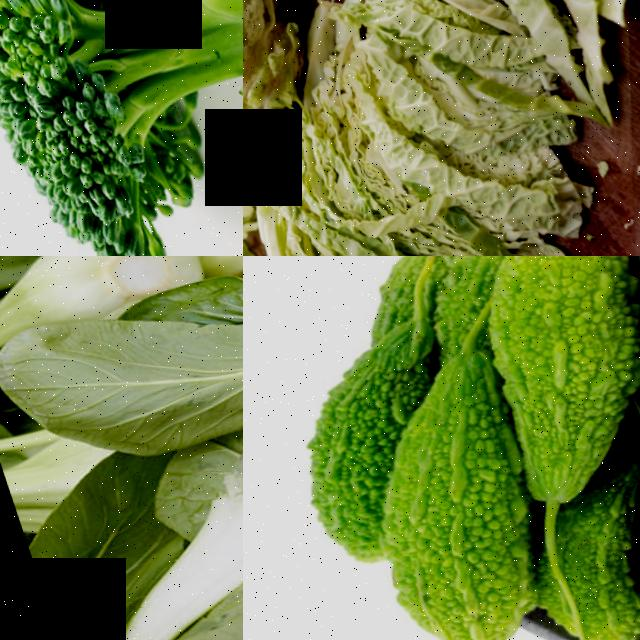bitter gourd: (367, 384, 556, 640), (462, 256, 639, 477), (256, 407, 385, 567)
bok choy: (0, 256, 243, 424), (128, 373, 243, 572), (0, 256, 184, 328)
broccoli: (0, 0, 243, 256)
